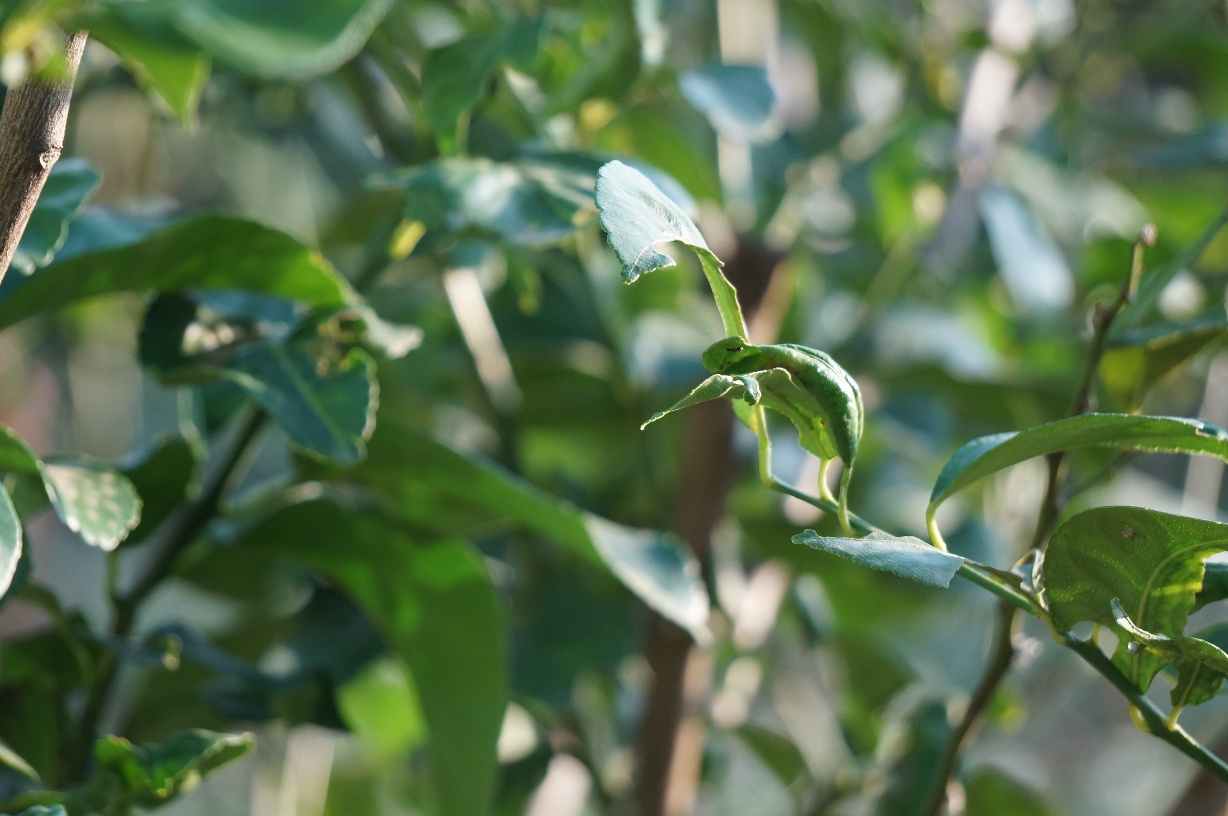curly: (697, 329, 874, 473)
